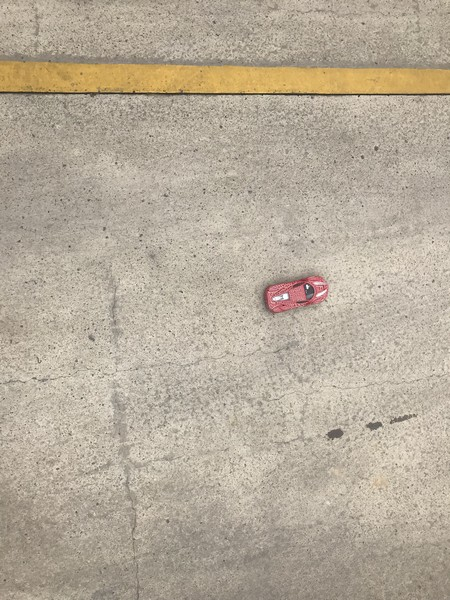RC: (262, 275, 333, 313)
